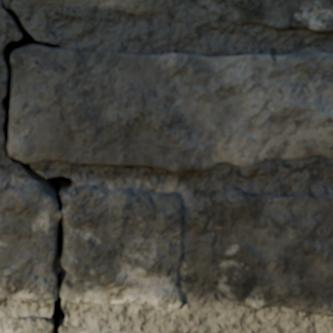brick: (8, 47, 332, 171), (211, 189, 332, 315), (208, 0, 332, 31), (19, 0, 176, 14), (4, 0, 11, 4)
broken_brick: (61, 184, 186, 311), (0, 183, 60, 303), (0, 315, 51, 332), (60, 320, 129, 332)
crack: (0, 0, 74, 332)
